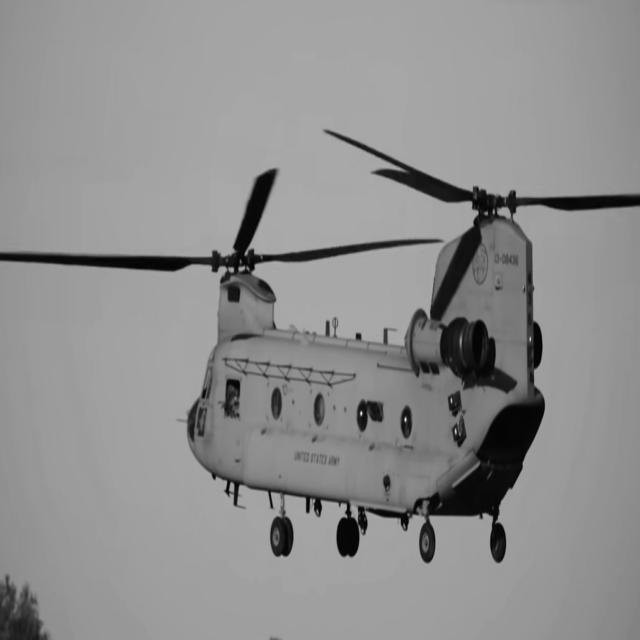Helicopter: (8, 162, 544, 560)
